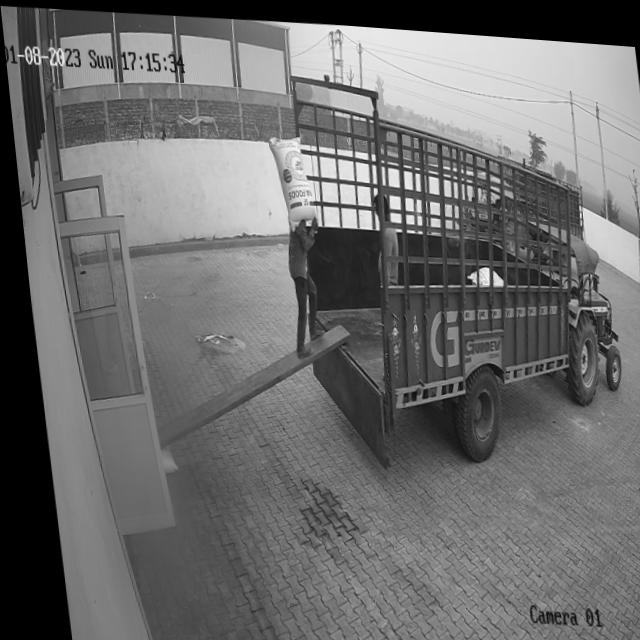sack: (265, 131, 313, 229)
